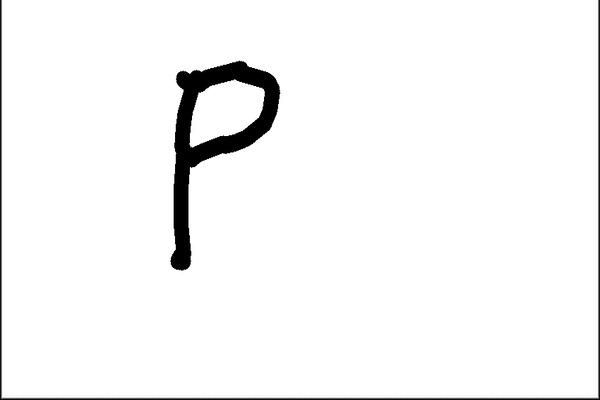P: (158, 53, 283, 277)
